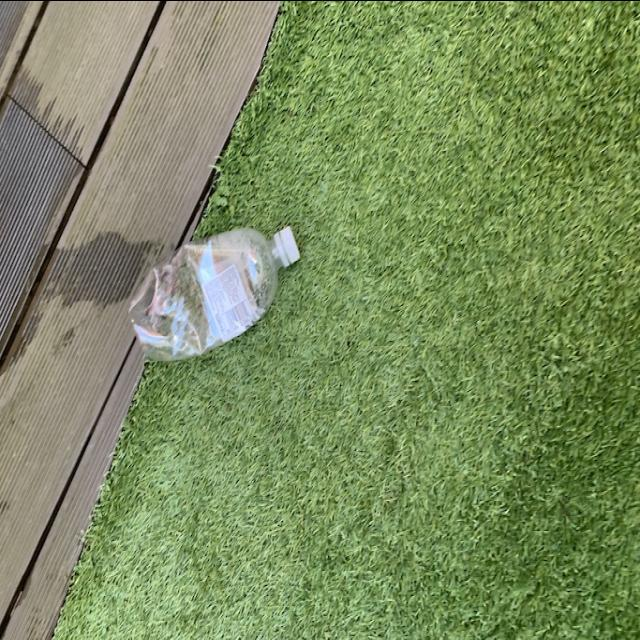PET: (126, 205, 304, 369)
